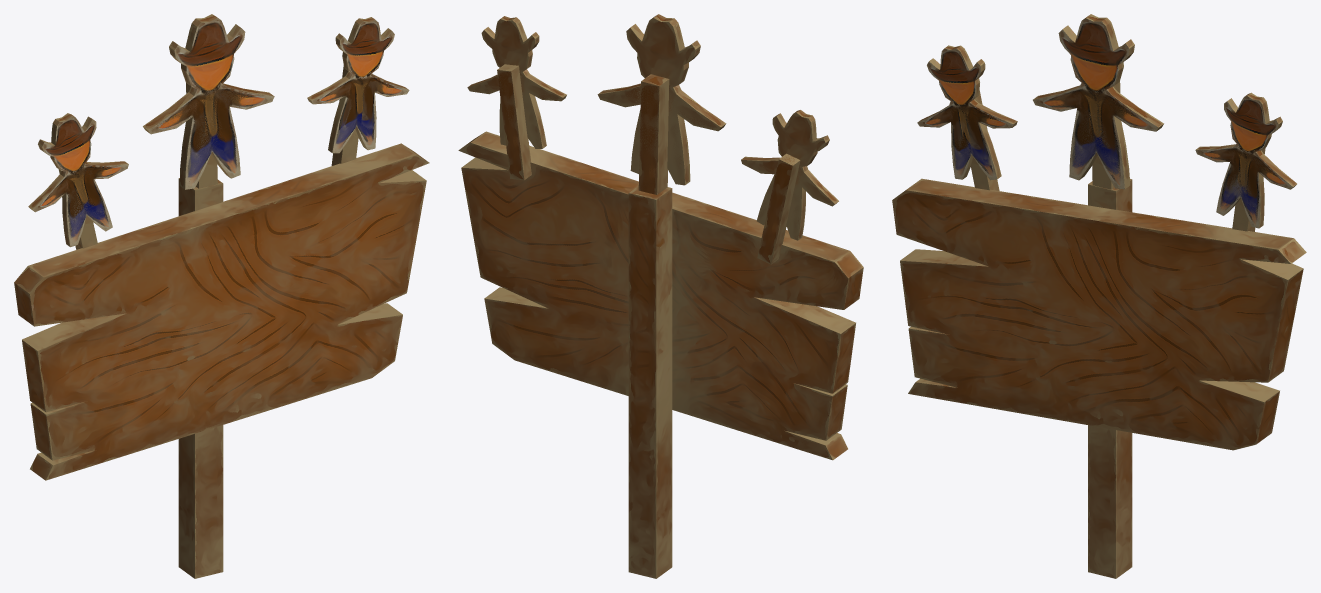
The model's file is Cartel_Vidas.fbx.
The picture shows the model from 3 angles, left to right: view 1: azimuth 30°, elevation 25°; view 2: azimuth 150°, elevation 25°; view 3: azimuth 330°, elevation 25°; orthographic projection. The views are drawn at different scales.
Parts seen in each view (by area): view 1: Cartel, Changuito.003, Changuito.001, Changuito.002, Muelto.003, Muelto.002, Muelto.001; view 2: Cartel, Changuito.003, Changuito.001, Changuito.002, Muelto.003, Muelto.002; view 3: Cartel, Changuito.003, Changuito.002, Changuito.001, Muelto.003, Muelto.002, Muelto.001.
Part boxes in pixels (x1,y1,x2,y2): Cartel: [14, 143, 429, 578]; Changuito.003: [143, 14, 274, 189]; Changuito.001: [28, 113, 128, 249]; Changuito.002: [307, 17, 409, 163]; Muelto.003: [143, 82, 274, 189]; Muelto.002: [307, 65, 408, 165]; Muelto.001: [60, 162, 112, 245]; Cartel: [458, 131, 863, 578]; Changuito.003: [597, 14, 725, 194]; Changuito.001: [741, 110, 838, 264]; Changuito.002: [467, 16, 566, 180]; Muelto.003: [598, 74, 725, 193]; Muelto.002: [479, 66, 566, 179]; Cartel: [892, 178, 1306, 578]; Changuito.003: [1033, 14, 1157, 189]; Changuito.002: [1196, 92, 1296, 231]; Changuito.001: [917, 45, 1017, 190]; Muelto.003: [1033, 81, 1163, 189]; Muelto.002: [1195, 144, 1296, 230]; Muelto.001: [949, 99, 996, 179].
Size of the model in its own units: 111 by 148 by 15.31.
